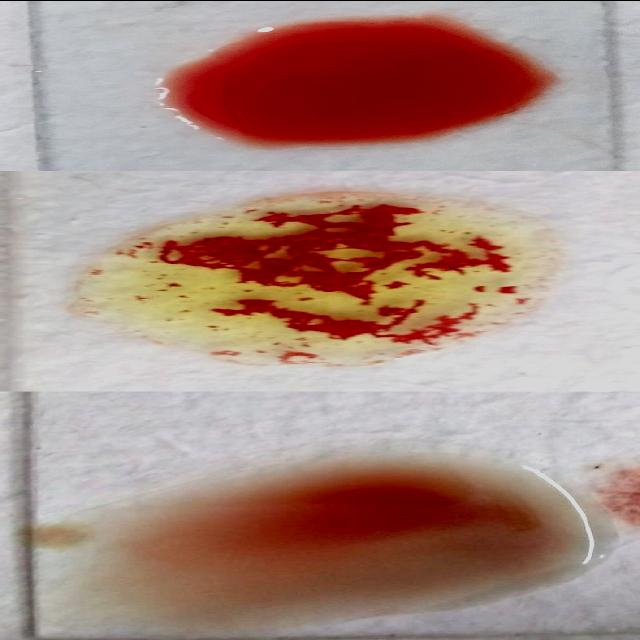B: (71, 192, 547, 366)
